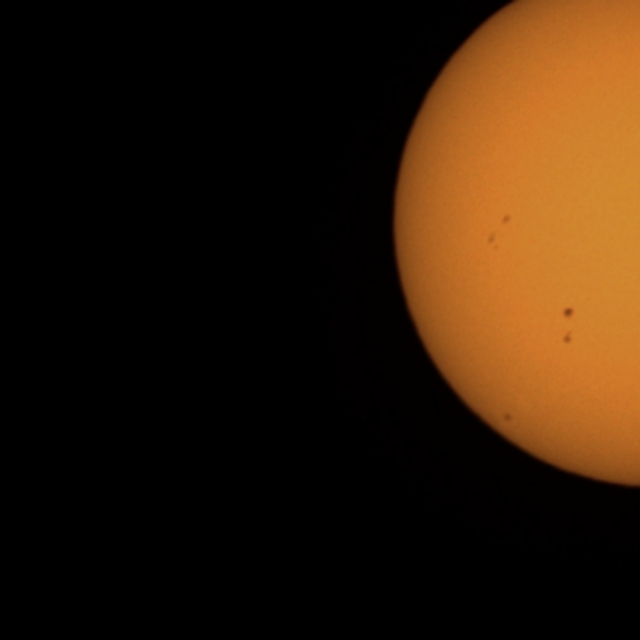sunspot: (485, 216, 513, 253), (485, 227, 502, 253), (561, 306, 576, 321), (562, 330, 574, 346), (501, 411, 514, 425), (500, 213, 512, 226)
